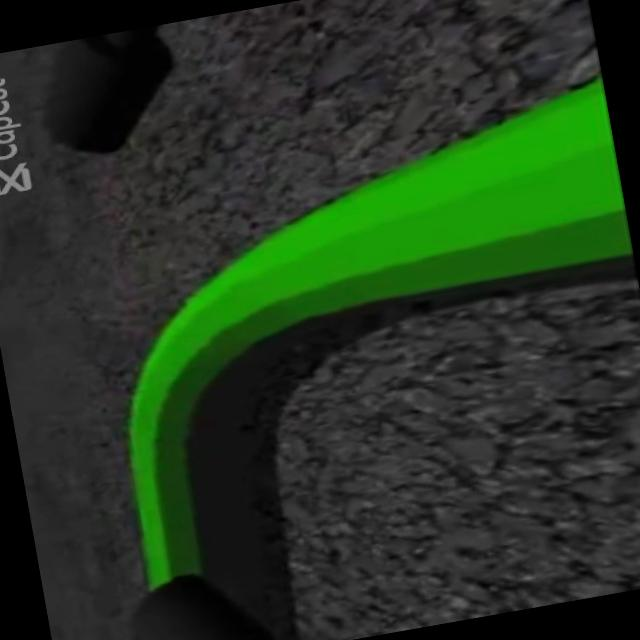gas: (96, 73, 636, 383), (92, 253, 288, 572)
